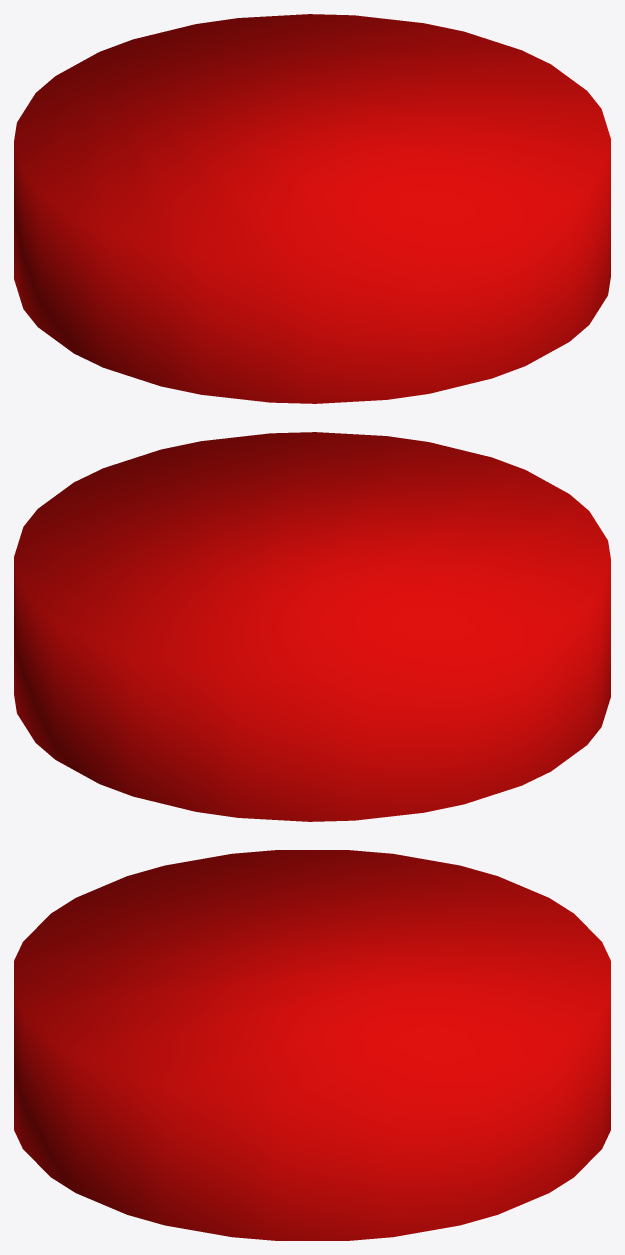
Rendered from Button.fbx.
The picture shows the model from 3 angles, top to bottom: view 1: azimuth 30°, elevation 25°; view 2: azimuth 150°, elevation 25°; view 3: azimuth 270°, elevation 25°; orthographic projection.
Parts seen in each view (by area): view 1: Button; view 2: Button; view 3: Button.
Boxes of the visible parts, left/top/right/bottom form: Button: left=14, top=14, right=610, bottom=403; Button: left=14, top=432, right=610, bottom=821; Button: left=14, top=850, right=610, bottom=1240.
Size of the model in its own units: 119 by 30.38 by 119.
